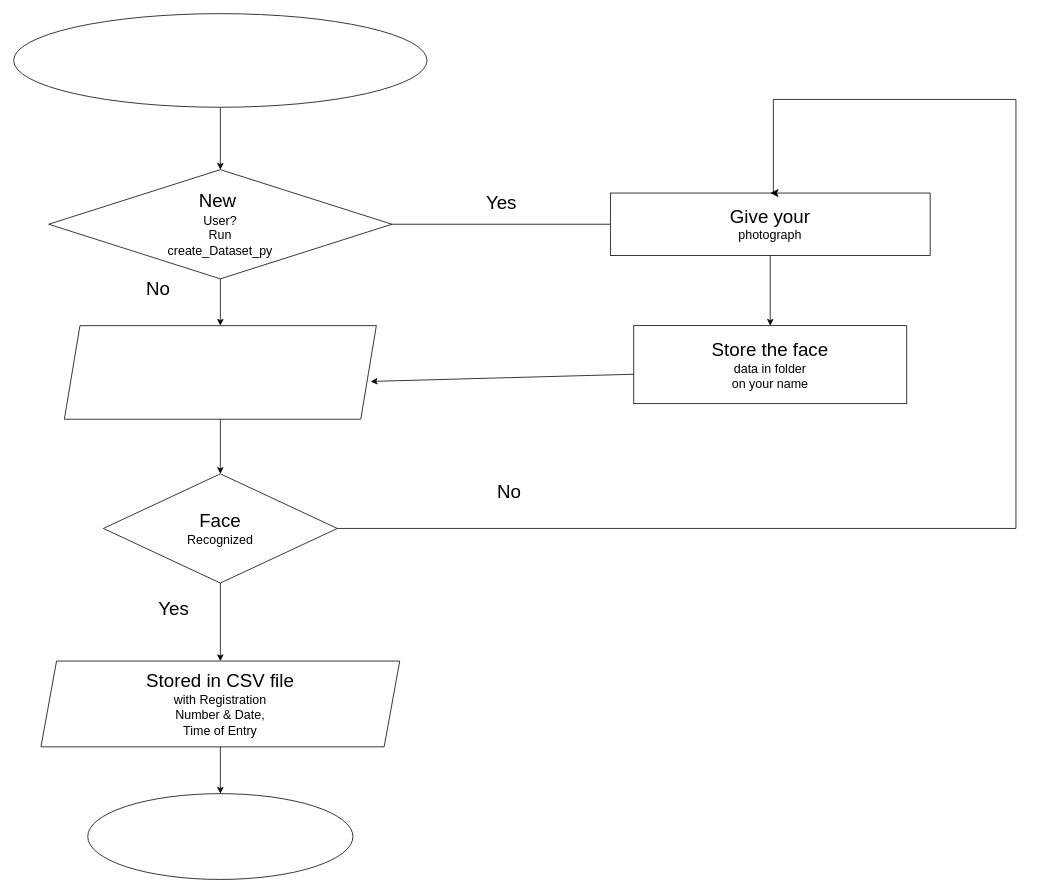
Some shapes in this 1037 by 893 pixel diagram are drawn without their labels. The shapes that lost their labels are listed below. From the top down, each one's centre as x and y in pixels, then its label:
At pixel 220 60: "Start".
At pixel 220 372: "Recognize the face Run face_rucognize_py".
At pixel 220 836: "End".
